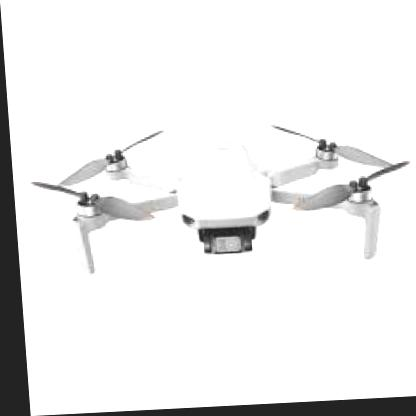UAS: (24, 120, 413, 280)
